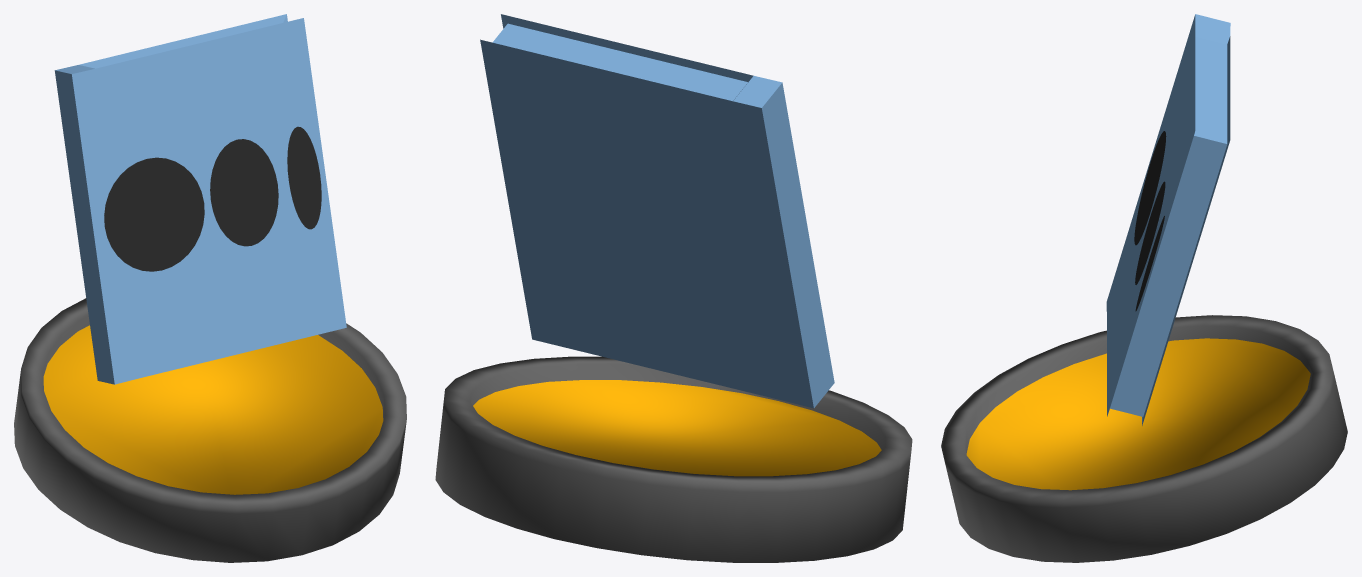
File: WEB3_MENU(1MESH)_B.gltf
3 renders of one model, left to right at view 1: azimuth 30°, elevation 25°; view 2: azimuth 150°, elevation 25°; view 3: azimuth 270°, elevation 25°, orthographic. The views are drawn at different scales.
Parts seen in each view (by area): view 1: Cube.002; view 2: Cube.002; view 3: Cube.002.
Part boxes in pixels (bbox=[...]): Cube.002: bbox=[14, 14, 406, 562]; Cube.002: bbox=[435, 14, 912, 562]; Cube.002: bbox=[941, 14, 1347, 562].
Bounding box in the file's own units: 0.802 × 0.964 × 0.8136.
